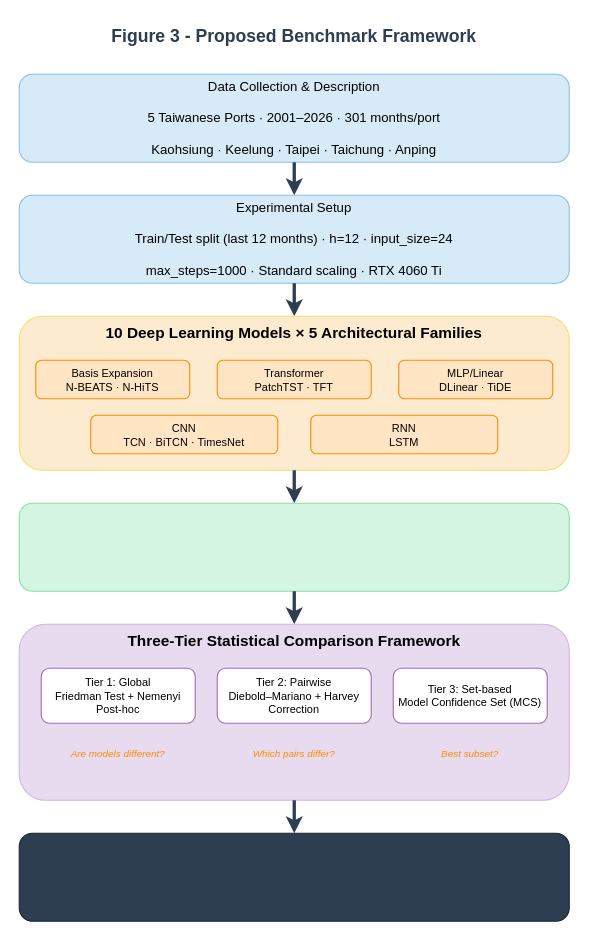
Some shapes in this 589 by 941 pixel diagram are drawn without their labels. Each missing label, with the centre of its shape:
"Evaluation Metrics MAE · RMSE · MAPE · SMAPE · R²" belongs at pixel 293 546.
"Results: Model Rankings · Port-Specific Guidelines · Best Model Set" belongs at pixel 293 876.
